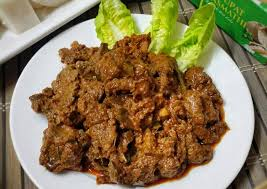rendang: (22, 29, 236, 189)
